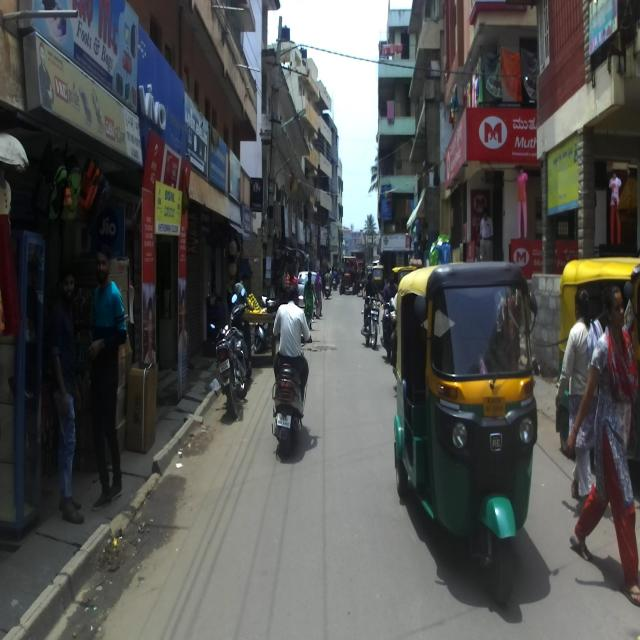high: (594, 286, 640, 587), (565, 298, 602, 510), (305, 270, 315, 328), (315, 270, 323, 319), (286, 264, 296, 286)
